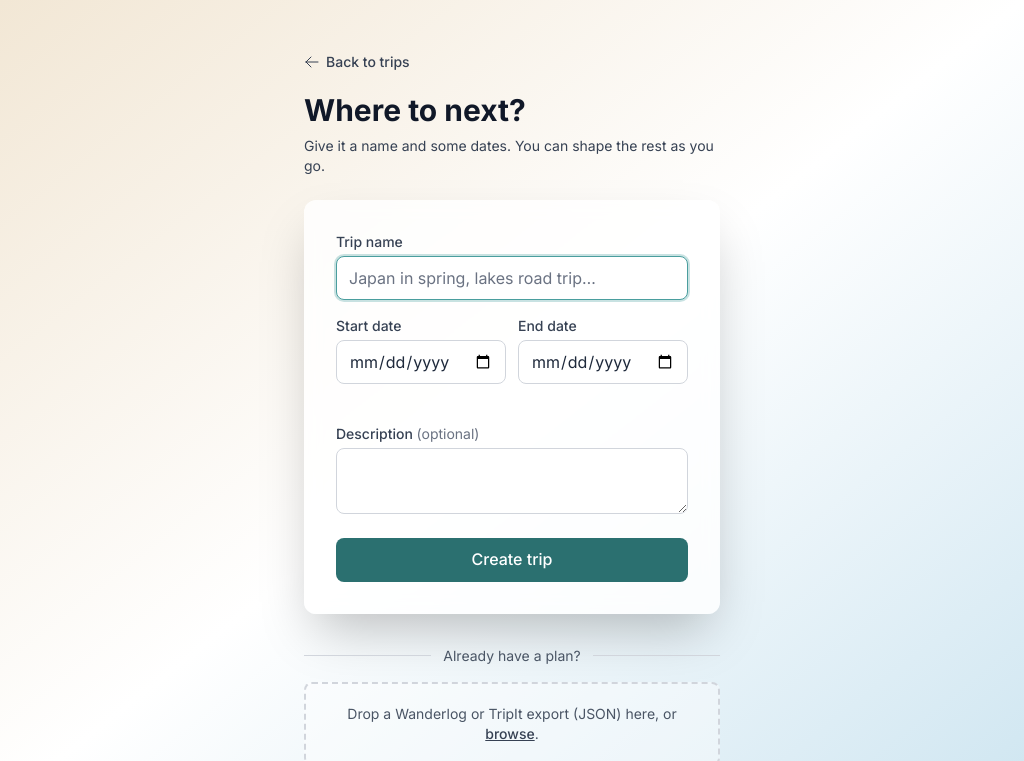
Scenario: NewTripPage › rejects an end date before the start date
The width and height of the screenshot is (1024, 761).
In the field labelled "Trip name": {"x": 512, "y": 278} [336, 256, 688, 300], type "Japan in spring"
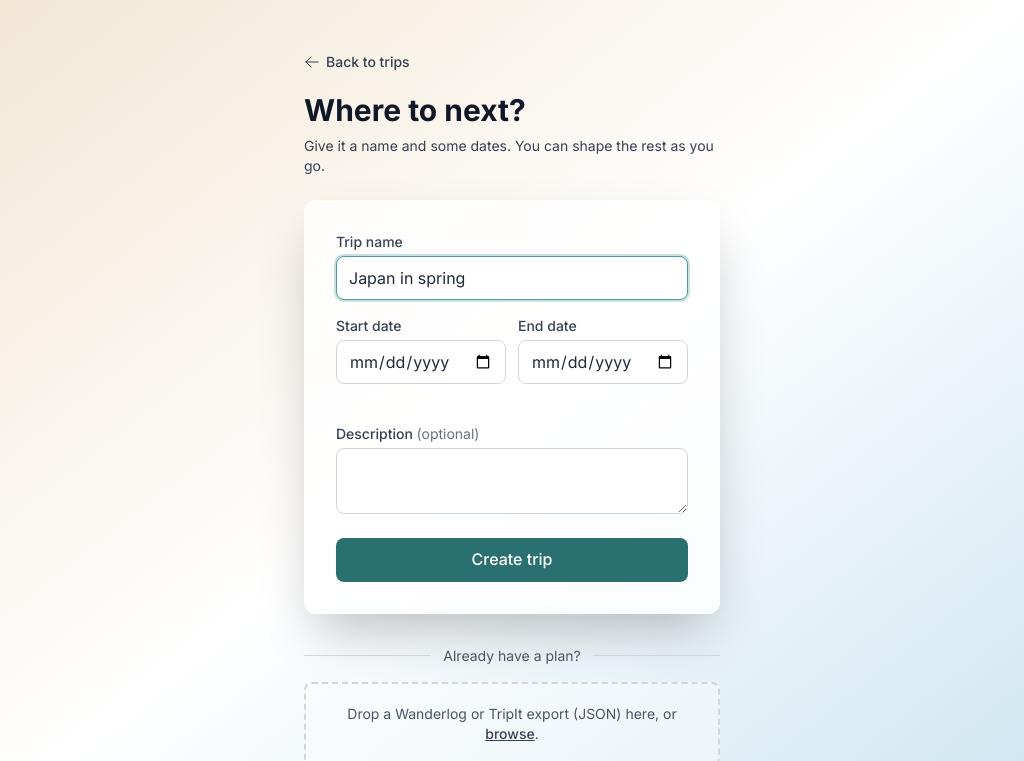
In the date field labelled "Start date": {"x": 421, "y": 362} [336, 340, 506, 384], type "2027-04-10"
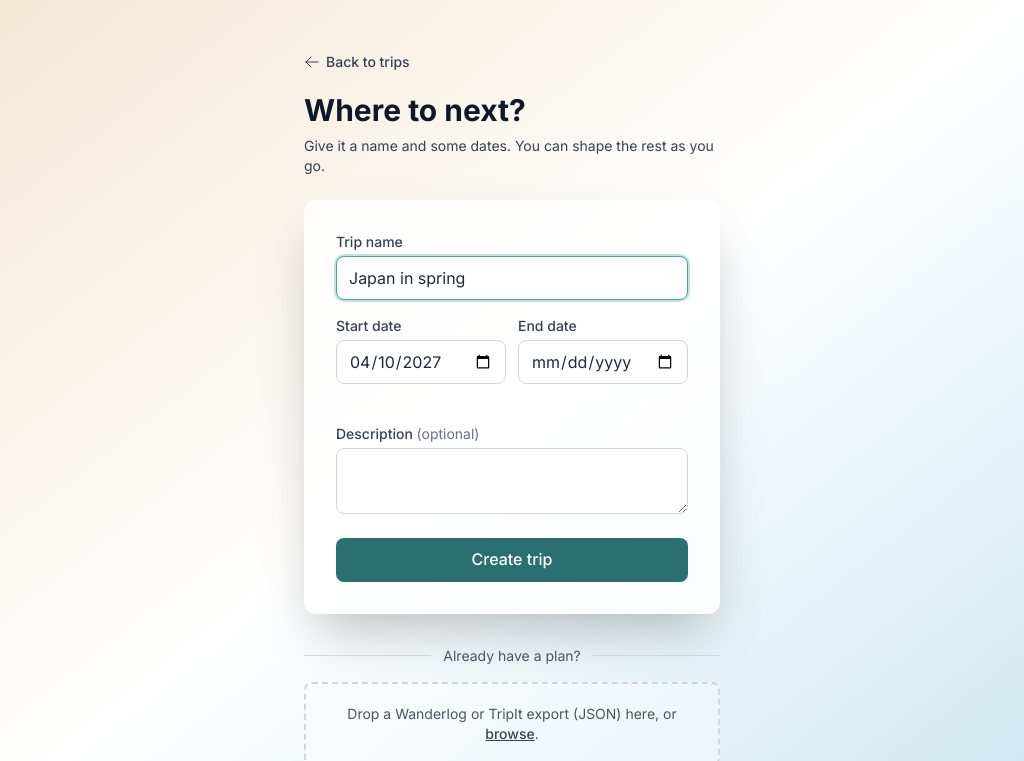
In the date field labelled "End date": {"x": 603, "y": 362} [518, 340, 688, 384], type "2027-04-01"
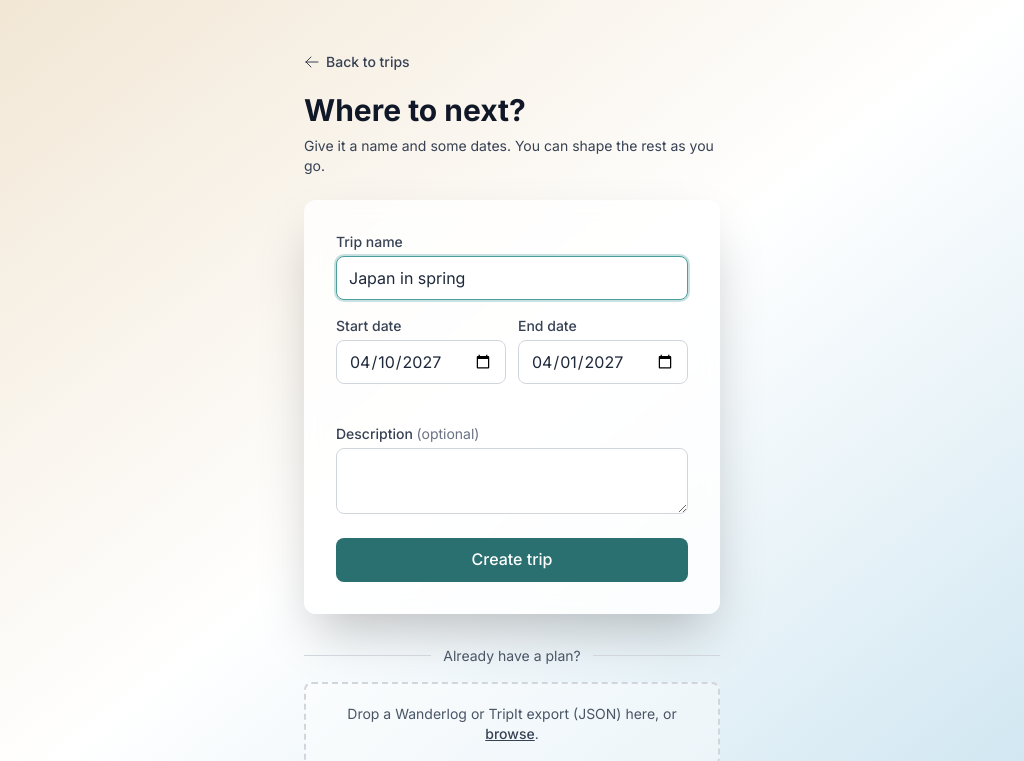
Click the button "Create trip": {"x": 512, "y": 560} [336, 538, 688, 582]
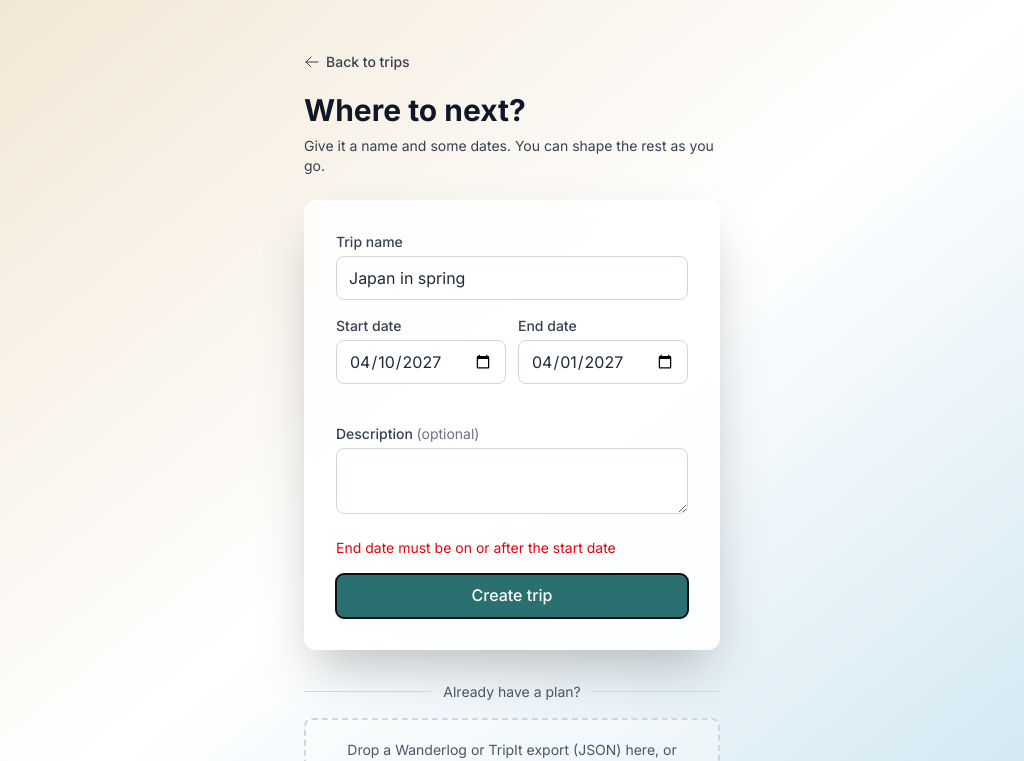
expect the message shows "on or after the start date": met, box [336, 539, 616, 556]
